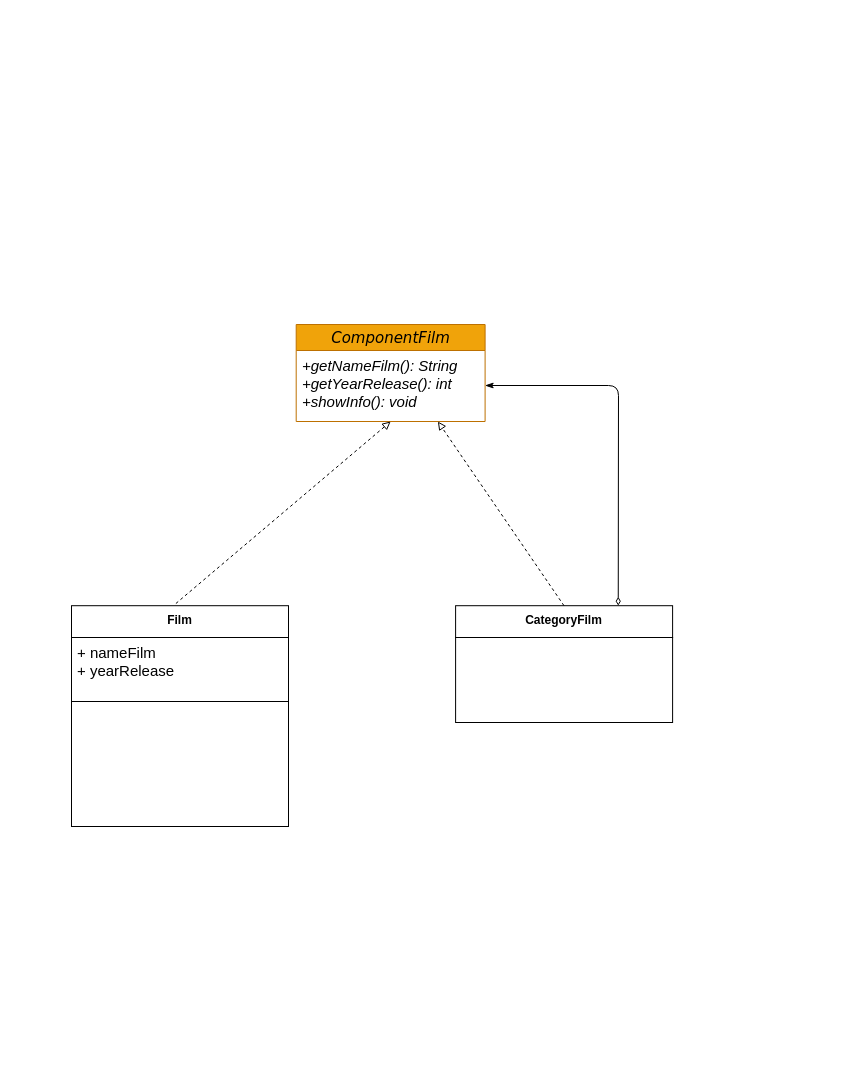
This 865x1085 diagram has some shape labels left out. The shapes that lost their labels are listed below. From the top down, each one's centre as x and y in pixels, then its label:
At point 564,679: "+ nameCategory + descriptionCategory + componentFilm".
At point 179,763: "+ getNameFilm(): String + getYearRelease(): int + showInfo(): void".
